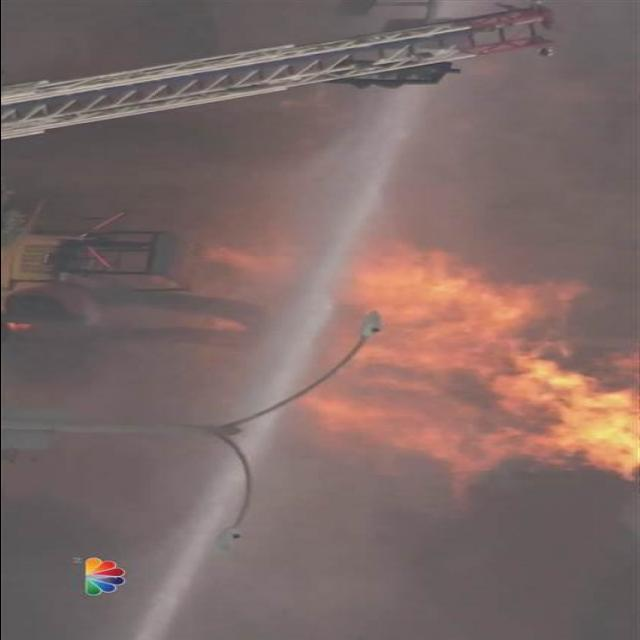Fire: (231, 249, 638, 501)
